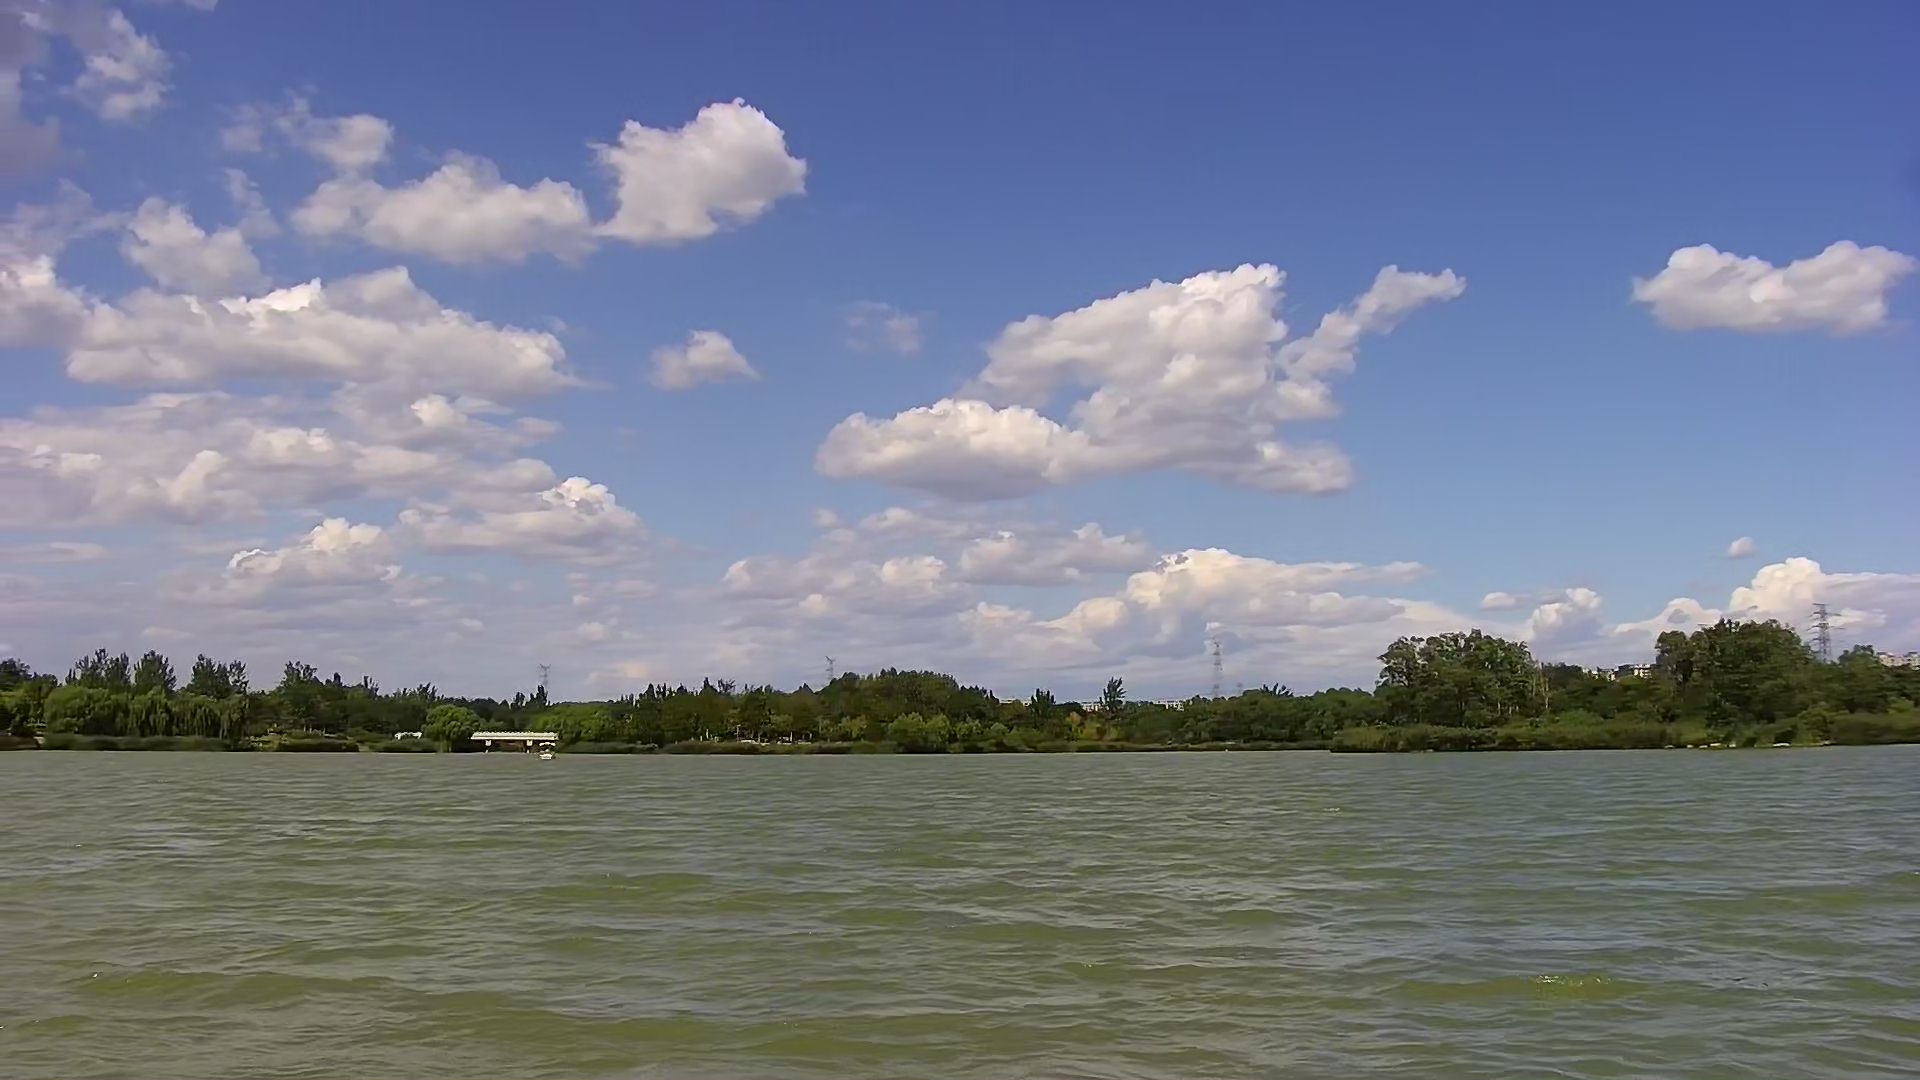boat: (533, 738, 568, 767)
bridge: (479, 724, 564, 754)
